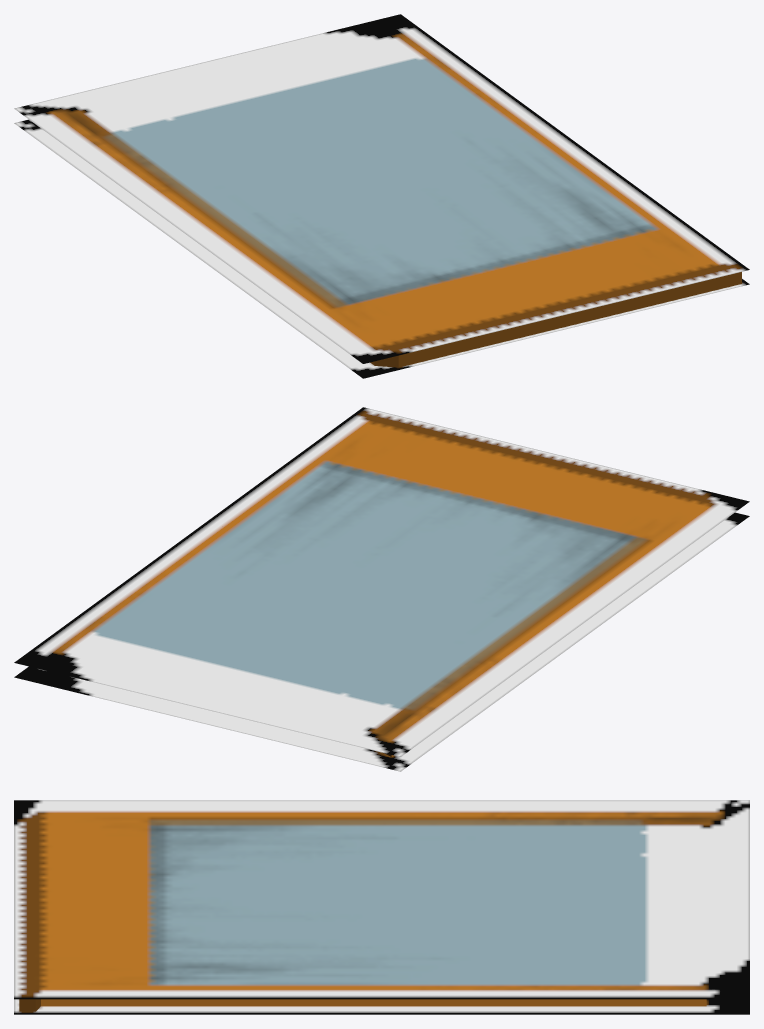
The model's file is pz_native_location_entertainment_theatre_01_27_frame.obj.
The picture shows the model from 3 angles, top to bottom: view 1: azimuth 30°, elevation 25°; view 2: azimuth 150°, elevation 25°; view 3: azimuth 270°, elevation 25°; orthographic projection. The views are drawn at different scales.
Parts seen in each view (by area): view 1: pz_native_location_entertainment_theatre_01_27_frame; view 2: pz_native_location_entertainment_theatre_01_27_frame; view 3: pz_native_location_entertainment_theatre_01_27_frame.
Part boxes in pixels (x1,y1,x2,y2): pz_native_location_entertainment_theatre_01_27_frame: (14, 14, 749, 378); pz_native_location_entertainment_theatre_01_27_frame: (14, 407, 749, 771); pz_native_location_entertainment_theatre_01_27_frame: (14, 800, 749, 1014).
Bounding box in the file's own units: 1.11 × 0.04 × 1.74.
1 material, 1 textured.
